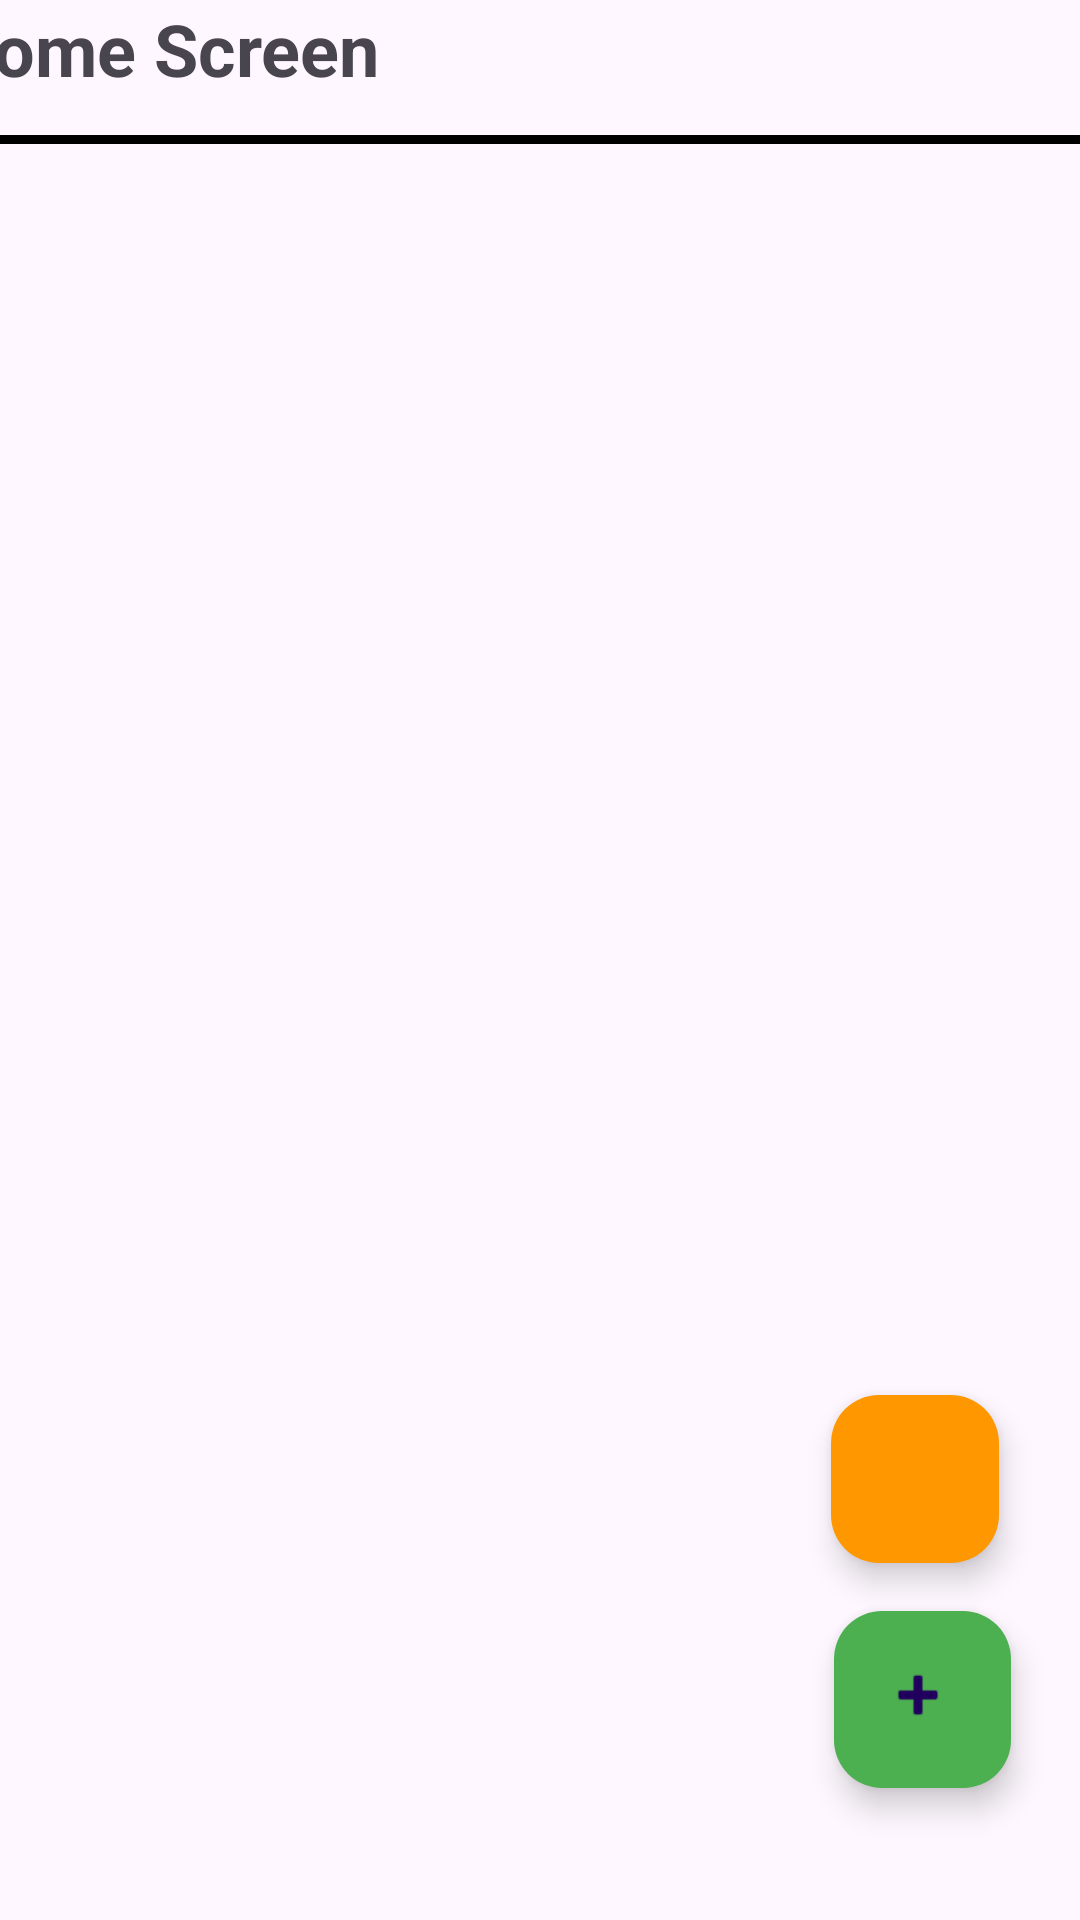

Point at icon controls on the screen. Image size 1080 × 1920, points as (x,y).
add: (922,1699)
